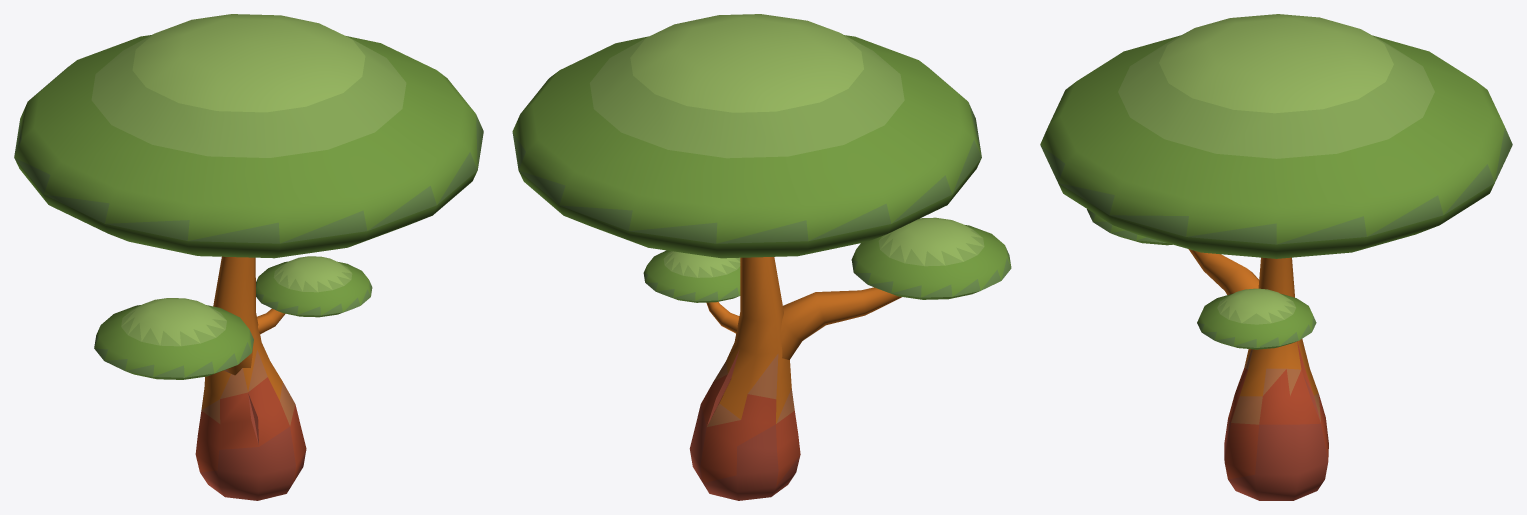
Rendered from itch_kaykit_forest_tree_3_b_color1.glb.
3 renders of one model, left to right at view 1: azimuth 30°, elevation 25°; view 2: azimuth 150°, elevation 25°; view 3: azimuth 270°, elevation 25°, orthographic.
Parts seen in each view (by area): view 1: Tree_3_B_Color1; view 2: Tree_3_B_Color1; view 3: Tree_3_B_Color1.
Boxes of the visible parts, <box> form: Tree_3_B_Color1: <box>14,14,483,500</box>; Tree_3_B_Color1: <box>512,14,1011,500</box>; Tree_3_B_Color1: <box>1040,14,1512,500</box>.
Bounding box in the file's own units: 1.22 × 1.29 × 1.22.
